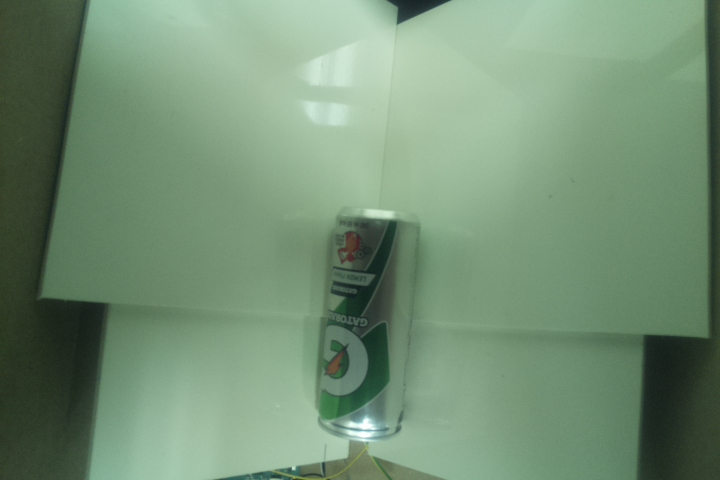can: (311, 206, 420, 447)
